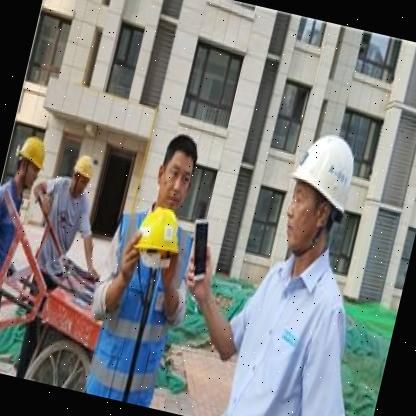capacete: (272, 124, 366, 266), (10, 130, 52, 196), (64, 151, 96, 204)
colete_refletivo: (76, 200, 198, 409)
sem_capacete: (150, 126, 204, 216)
sem_colete_refletivo: (217, 246, 369, 415), (33, 172, 94, 276), (0, 180, 31, 307)
